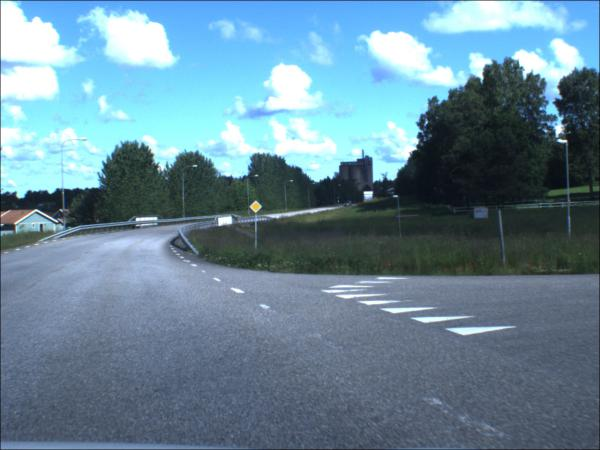PRIORITY_ROAD: (251, 202, 264, 215)
